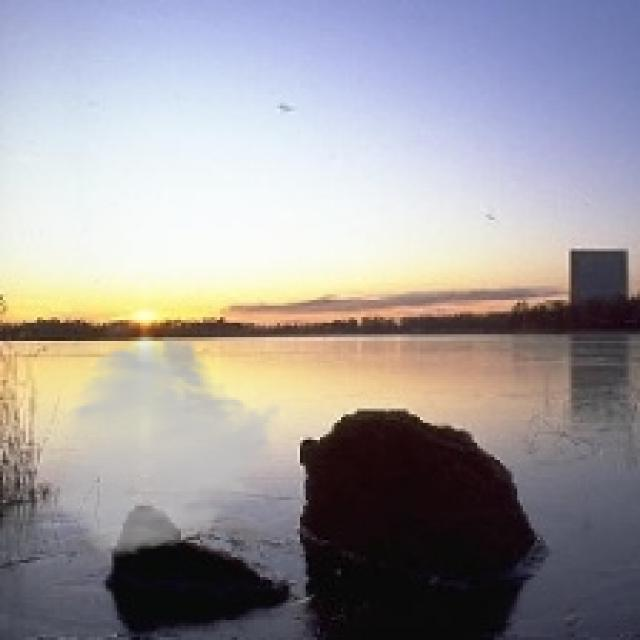smoke: (51, 332, 286, 557)
